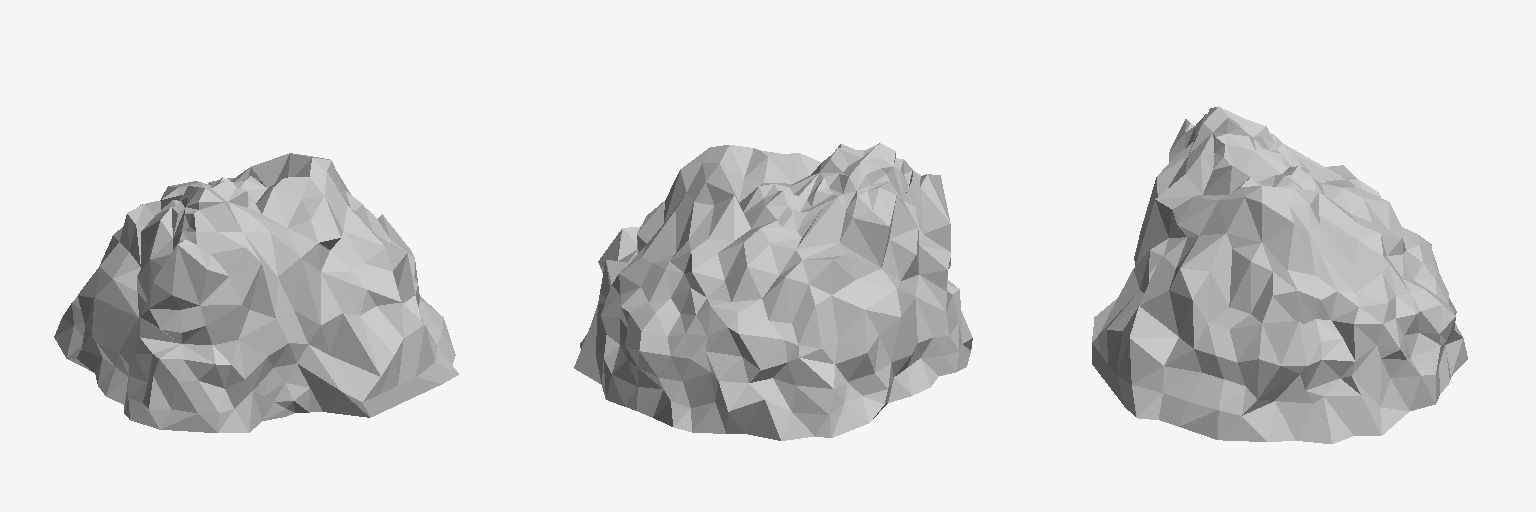
The model's file is Rock02_02.obj.
3 renders of one model, left to right at view 1: azimuth 30°, elevation 25°; view 2: azimuth 150°, elevation 25°; view 3: azimuth 270°, elevation 25°, orthographic.
Visible parts, largest first — view 1: ICO球; view 2: ICO球; view 3: ICO球.
Part boxes in pixels (x1,y1,x2,y2): ICO球: (54, 153, 458, 432); ICO球: (574, 143, 972, 440); ICO球: (1092, 106, 1467, 443).
Bounding box in the file's own units: 2.17 × 1.41 × 2.18.